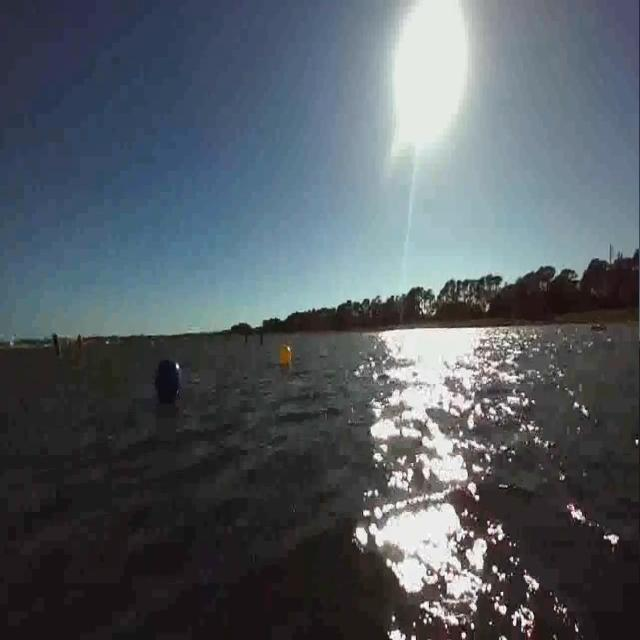black-buoy: (156, 357, 181, 404)
yellow-buoy: (280, 344, 293, 366)
